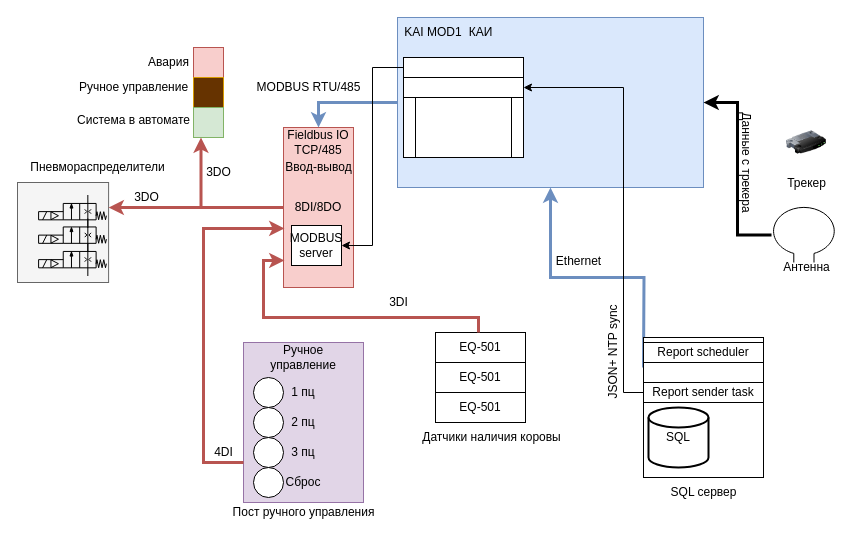
Some shapes in this 859 by 545 pixel diagram are drawn without their labels. Each missing label, with the centre of its shape:
AFI report reciever: point (463, 87)
Modbus client: point (463, 67)
Report gen task: point (703, 372)
TAG check task: point (463, 127)
